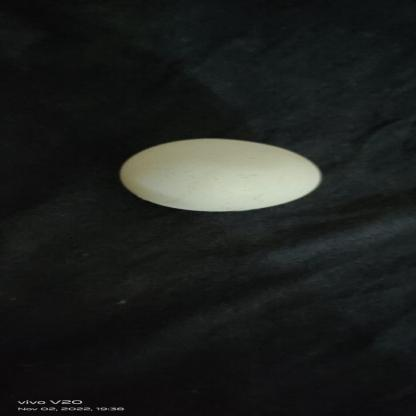egg: (113, 138, 325, 212)
